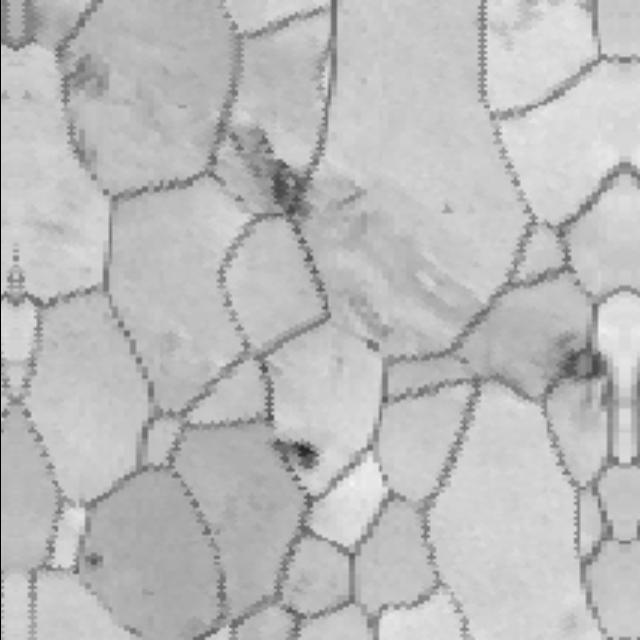good_void: (223, 123, 301, 214), (558, 340, 611, 390), (62, 54, 110, 106), (279, 436, 321, 471), (436, 197, 463, 221), (358, 334, 392, 352), (84, 550, 106, 574)
